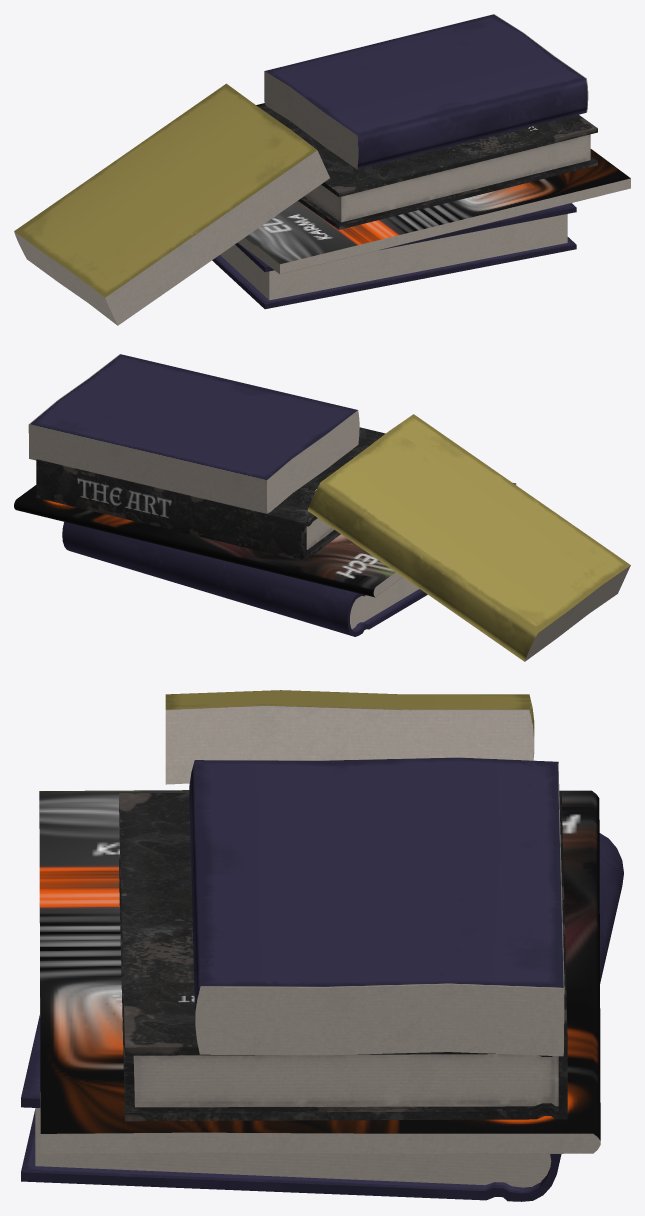
Rendered from SM_Book_Stack_07.fbx.
3 views of the same model, one above another, from view 1: azimuth 30°, elevation 25°; view 2: azimuth 150°, elevation 25°; view 3: azimuth 270°, elevation 25° (orthographic). The views are drawn at different scales.
Visible parts, largest first — view 1: SM_Book_Stack_07_LOD0; view 2: SM_Book_Stack_07_LOD0; view 3: SM_Book_Stack_07_LOD0.
Part boxes in pixels (box(x1,y1,x2,y2)): SM_Book_Stack_07_LOD0: box(14, 14, 630, 325); SM_Book_Stack_07_LOD0: box(14, 354, 630, 661); SM_Book_Stack_07_LOD0: box(21, 690, 623, 1201).
Bounding box in the file's own units: 53.24 × 28.07 × 13.23.
